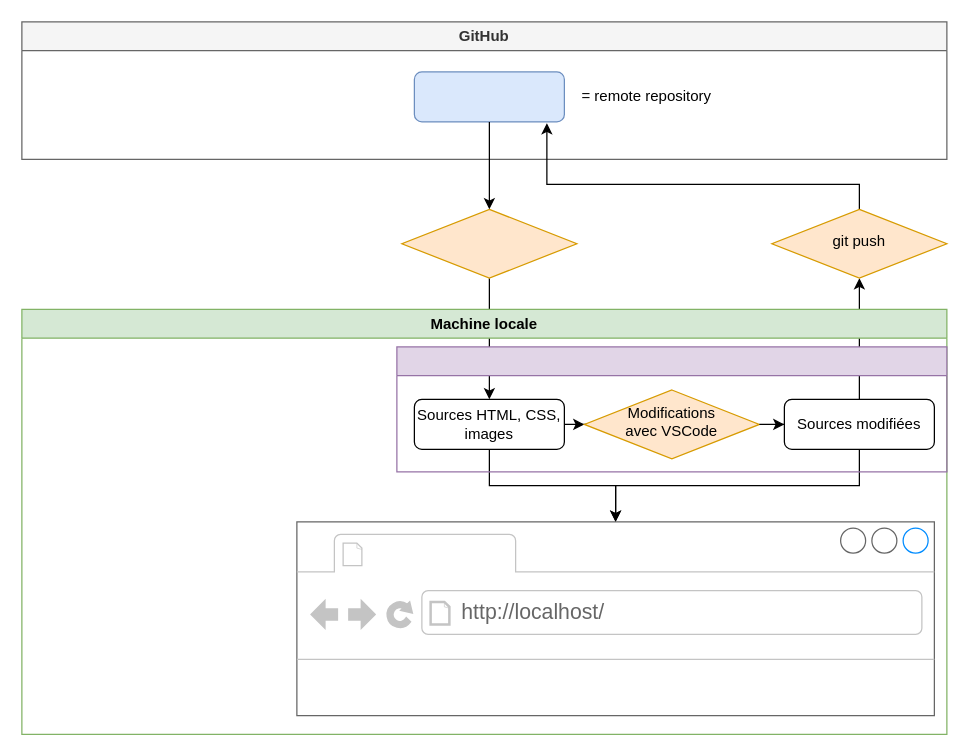
The diagram is 969 pixels wide and 756 high, and some of its shapes have lost their labels. Each missing label, with the centre of its shape:
Bienvenue: (x=440, y=552)
Dépôt: (x=488, y=96)
git clone: (x=489, y=243)
Local repository: (x=671, y=409)
